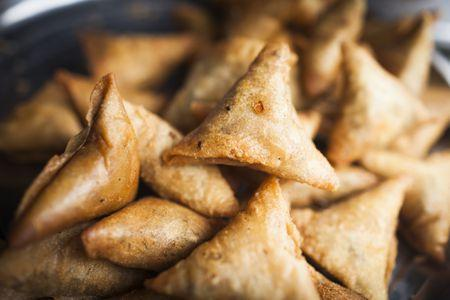samosa: (163, 40, 338, 190), (146, 177, 319, 299), (301, 176, 411, 300), (328, 42, 430, 164)
